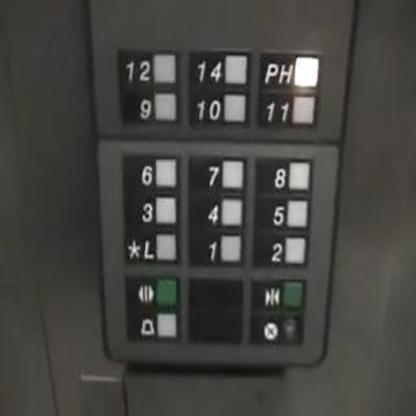1: (184, 230, 246, 268)
10: (184, 87, 250, 127)
11: (254, 89, 320, 129)
12: (114, 46, 179, 87)
14: (186, 46, 251, 87)
2: (250, 231, 312, 266)
3: (120, 190, 180, 230)
4: (185, 194, 247, 232)
5: (251, 193, 313, 231)
6: (120, 150, 180, 192)
7: (185, 154, 247, 194)
8: (251, 153, 314, 194)
9: (116, 86, 180, 128)
PH: (255, 48, 322, 88)
alarm: (121, 309, 181, 343)
close: (247, 275, 306, 311)
open: (122, 272, 181, 310)
sL: (121, 229, 180, 266)
stop: (248, 310, 306, 350)
